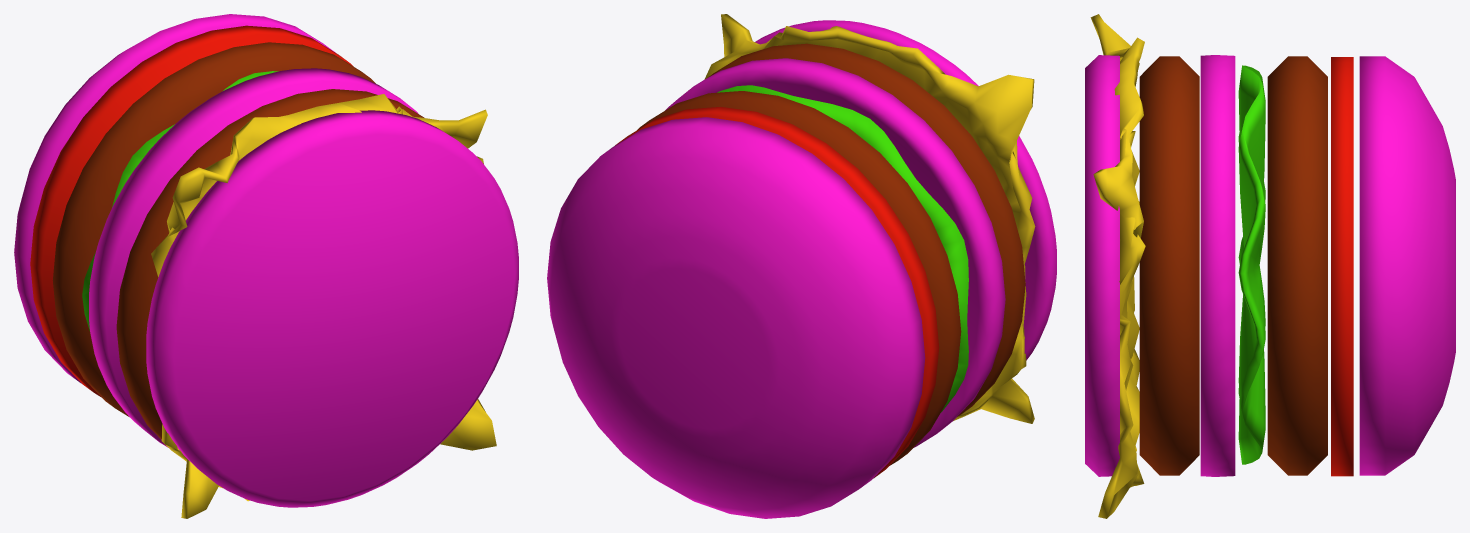
File: BURGER_WEAPONS.fbx
3 views of the same model, side by side, from view 1: azimuth 30°, elevation 25°; view 2: azimuth 150°, elevation 25°; view 3: azimuth 270°, elevation 25° (orthographic).
Visible parts, largest first — view 1: Circle; view 2: Circle; view 3: Circle.
Boxes of the visible parts, x1,y1,x2,y2 form: Circle: (14,14,518,518); Circle: (547,14,1056,518); Circle: (1085,14,1455,518).
Bounding box in the file's own units: 201 × 207 × 177.
